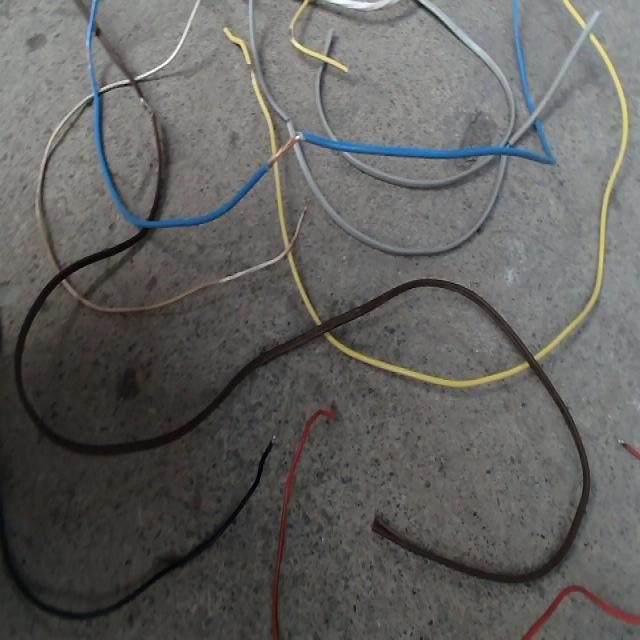-: (264, 132, 301, 167)
